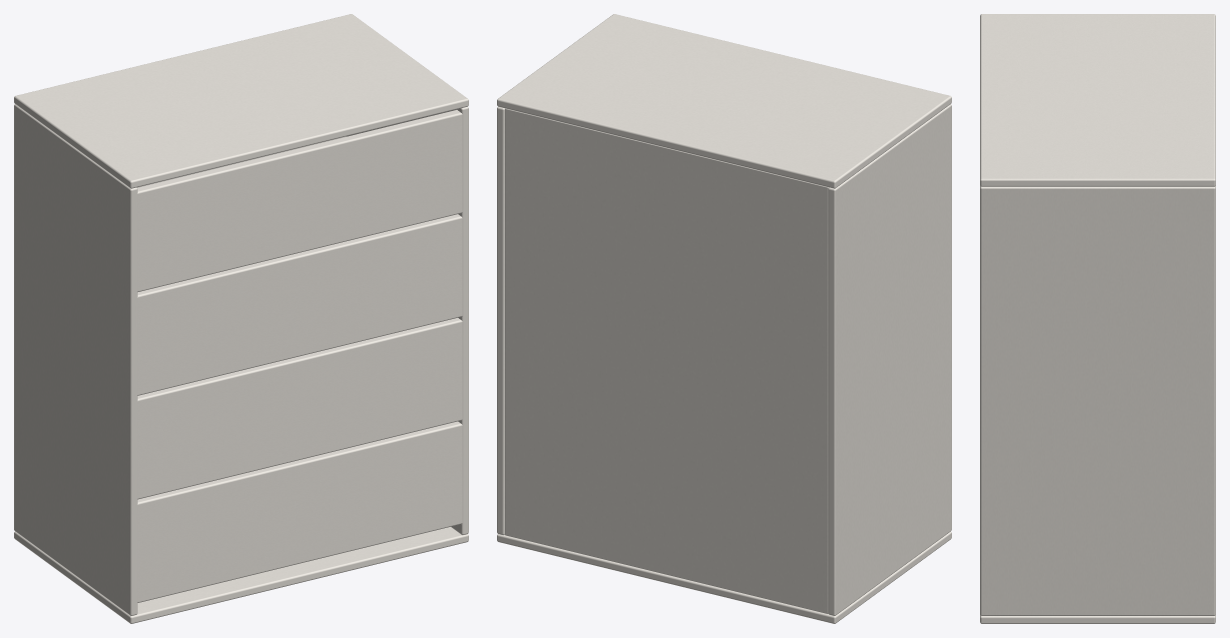
The model's file is malm-chest.glb.
3 renders of one model, left to right at view 1: azimuth 30°, elevation 25°; view 2: azimuth 150°, elevation 25°; view 3: azimuth 270°, elevation 25°, orthographic.
Parts seen in each view (by area): view 1: MALM 4-drawer chest; view 2: MALM 4-drawer chest; view 3: MALM 4-drawer chest.
Part boxes in pixels (x1,y1,x2,y2): MALM 4-drawer chest: (14, 14, 468, 623); MALM 4-drawer chest: (497, 14, 951, 623); MALM 4-drawer chest: (980, 14, 1215, 623).
Size of the model in its own units: 0.8 by 1 by 0.48.
1 material, 1 textured.
